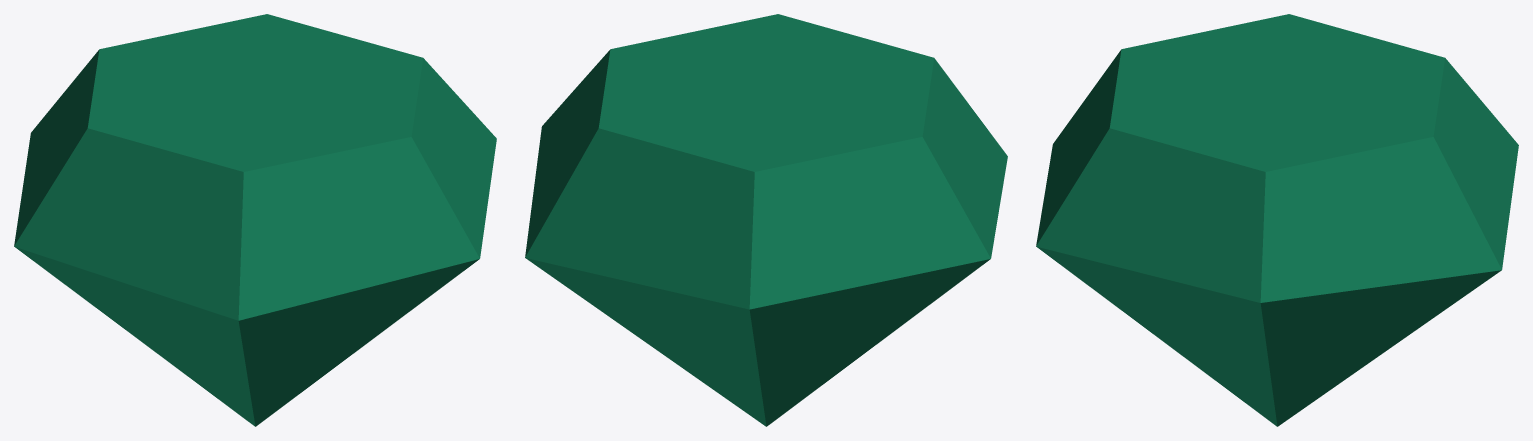
The model's file is crystal4.glb.
The picture shows the model from 3 angles, left to right: view 1: azimuth 30°, elevation 25°; view 2: azimuth 150°, elevation 25°; view 3: azimuth 270°, elevation 25°; orthographic projection.
Visible parts, largest first — view 1: Crystal5_Cylinder.004; view 2: Crystal5_Cylinder.004; view 3: Crystal5_Cylinder.004.
Boxes of the visible parts, <box> form: Crystal5_Cylinder.004: <box>14,14,496,426</box>; Crystal5_Cylinder.004: <box>525,14,1007,426</box>; Crystal5_Cylinder.004: <box>1036,14,1518,426</box>.
Bounding box in the file's own units: 0.6292 × 0.4308 × 0.5646.
